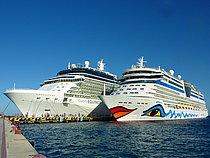Ship: (4, 58, 128, 124), (97, 56, 209, 121)
